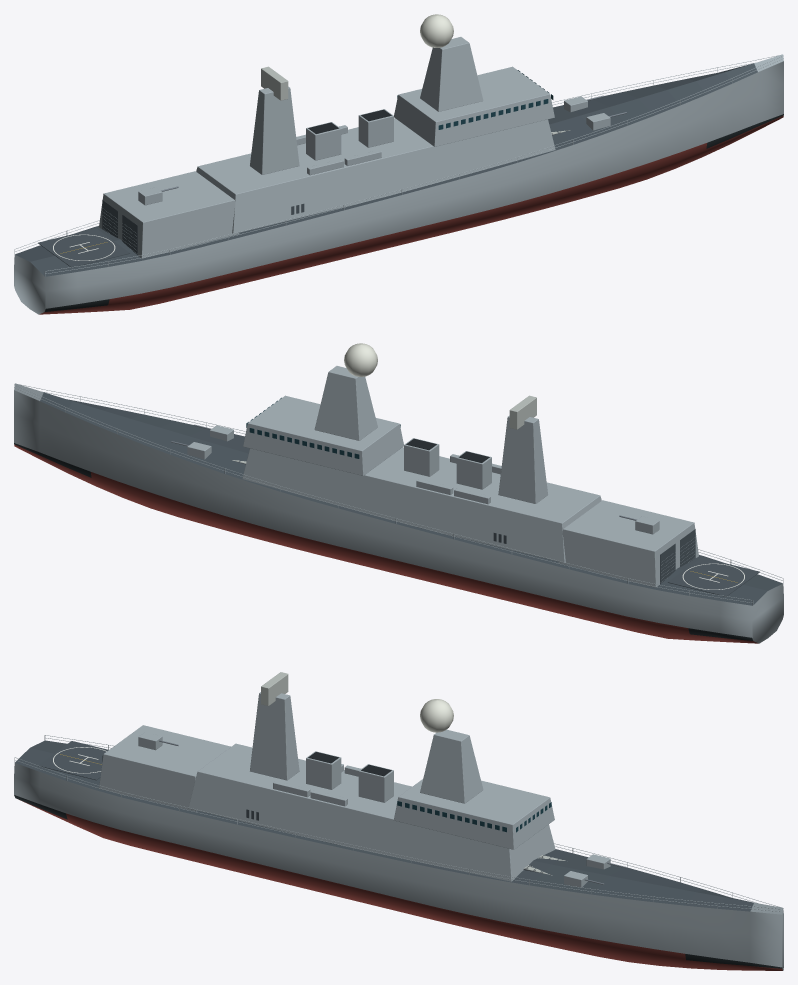
The model's file is ita_ddg_horizon.glb.
3 views of the same model, one above another, from view 1: azimuth 30°, elevation 25°; view 2: azimuth 150°, elevation 25°; view 3: azimuth 330°, elevation 25° (orthographic).
Visible parts, largest first — view 1: ita_ddg_horizon; view 2: ita_ddg_horizon; view 3: ita_ddg_horizon.
Boxes of the visible parts, x1,y1,x2,y2 form: ita_ddg_horizon: [14, 14, 783, 314]; ita_ddg_horizon: [14, 343, 783, 643]; ita_ddg_horizon: [14, 672, 783, 970].
Size of the model in its own units: 10 by 2.65 by 1.18.
